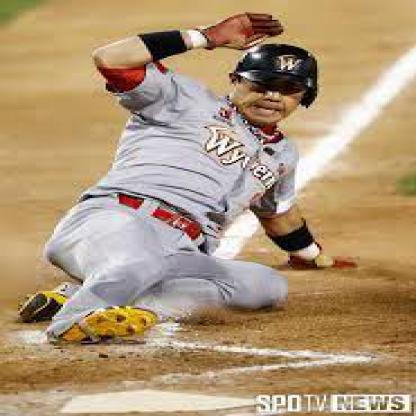Fall_Down: (8, 7, 371, 350)
